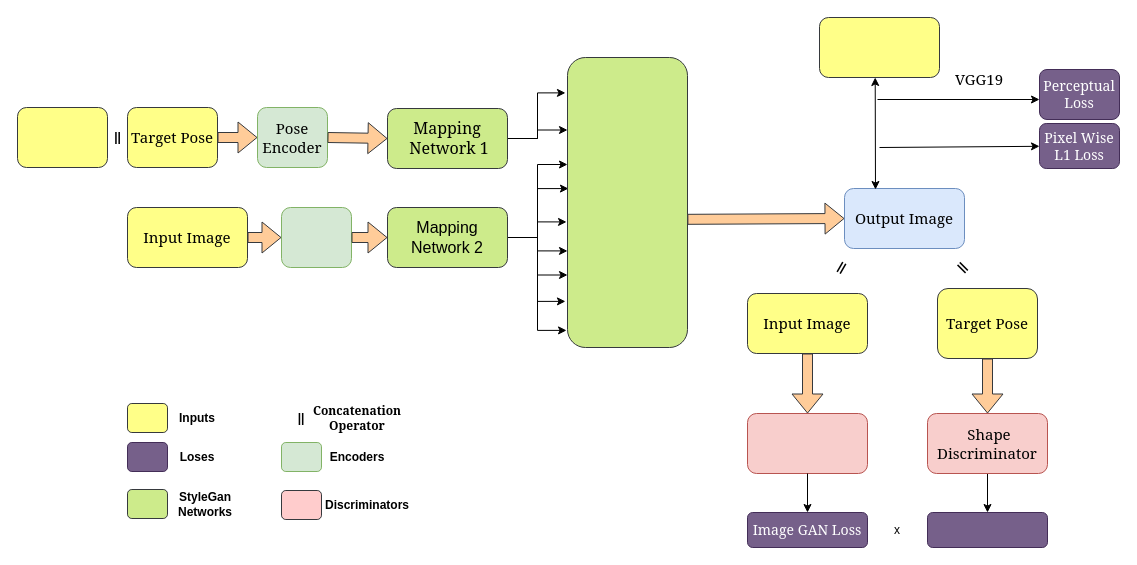
The diagram is 1137 pixels wide and 565 high, and some of its shapes have lost their labels. Each missing label, with the centre of its shape:
Appearance Discriminator: the point at 807,443
Groundtruth Image: the point at 879,47
Image Encoder: the point at 316,237
Input Image Pose: the point at 62,137
Pose GAN Loss: the point at 987,530
Synthesis Network: the point at 627,202
